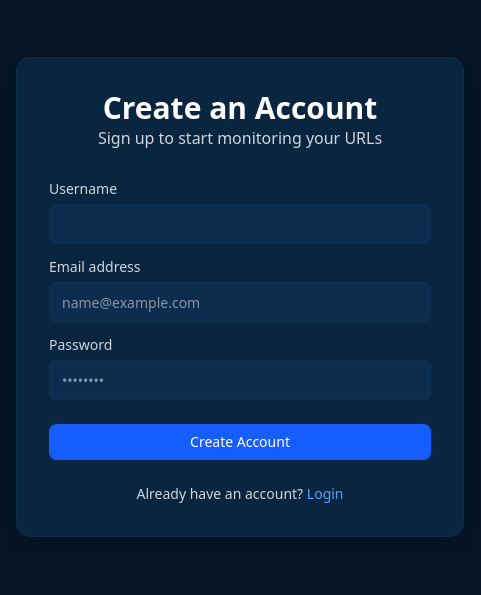
it: Required field error messages are displayed on submit if fields are empty
Click the button "Create Account" at (240, 442), box [49,424,431,460]
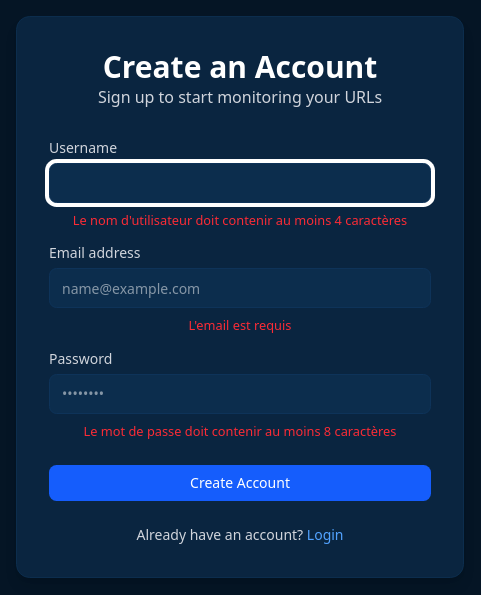
Check: the text "Le nom d'utilisateur doit contenir au moins 4 caractères" is shown, box [49,211,431,230]
Check: the text "L'email est requis" is shown, box [189,316,291,334]
Check: the text "Le mot de passe doit contenir au moins 8 caractères" is shown, box [84,422,396,440]
